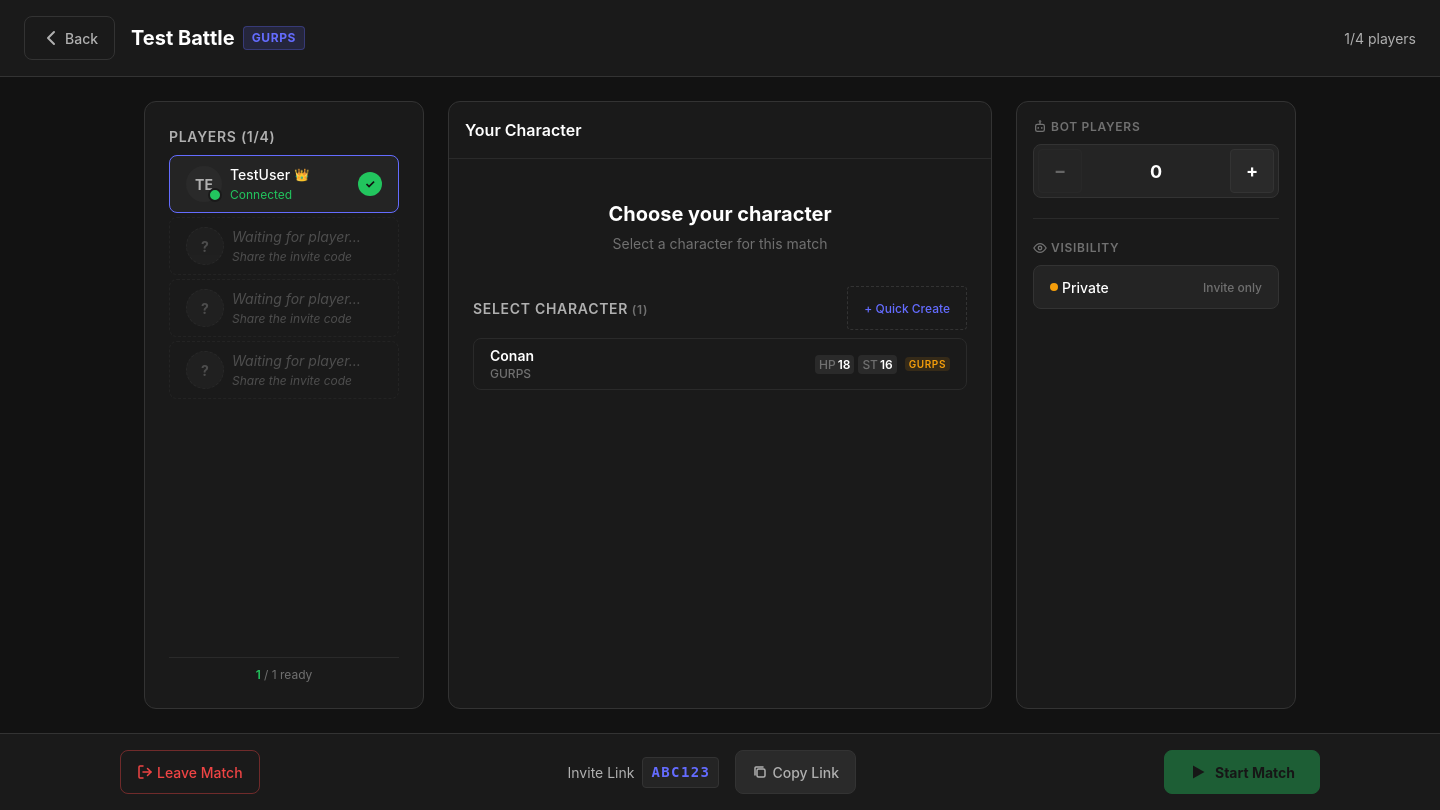
Scenario: LobbyScreen › clicking Remove Bot decrements bot count
The width and height of the screenshot is (1440, 810).
Click the button named "Add bot" at coordinates (1252, 171), box x1=1230 y1=149 x2=1274 y2=193
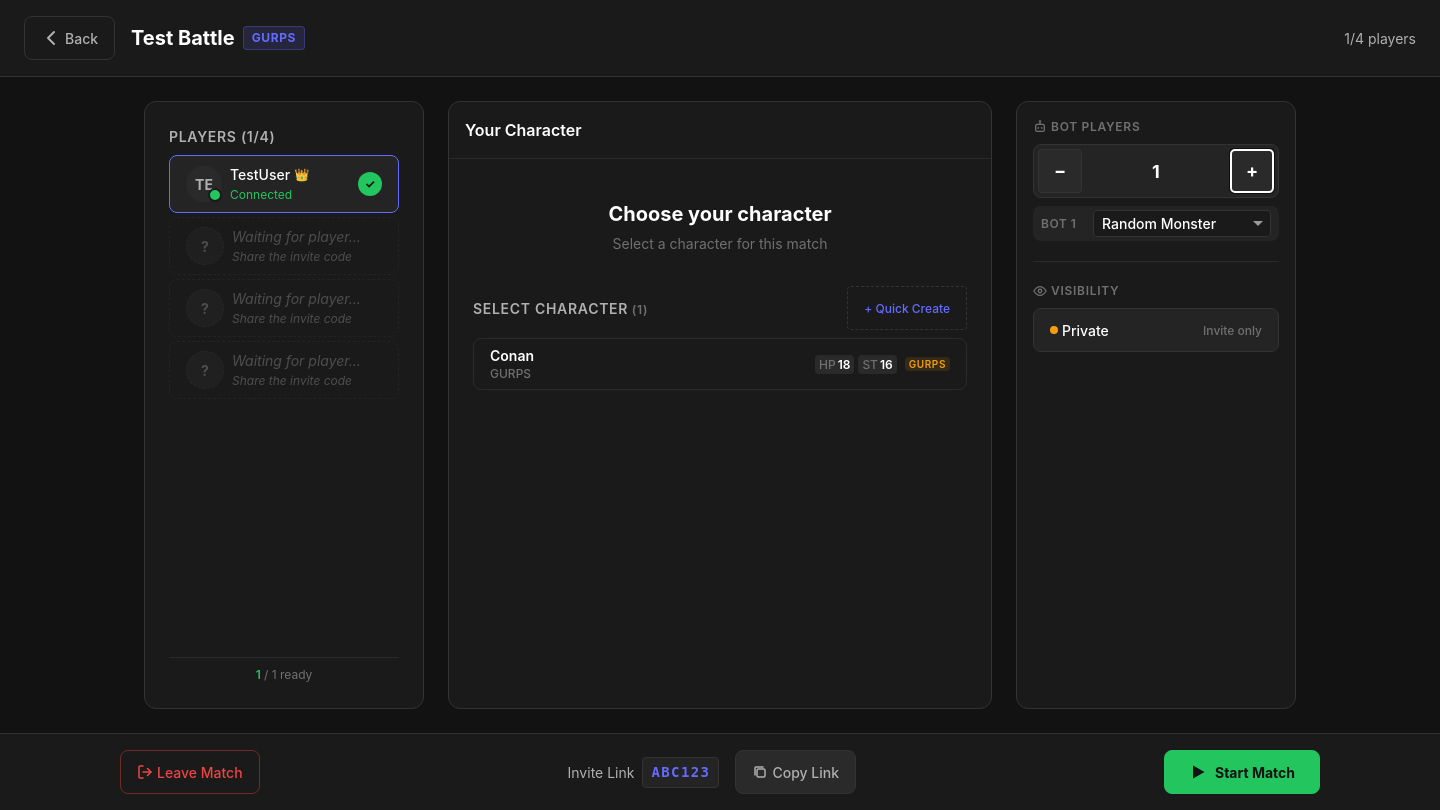
Expected: the button "Start Match" is enabled, x1=1164 y1=750 x2=1320 y2=794
Click the button named "Remove bot" at coordinates (1060, 171), box x1=1038 y1=149 x2=1082 y2=193
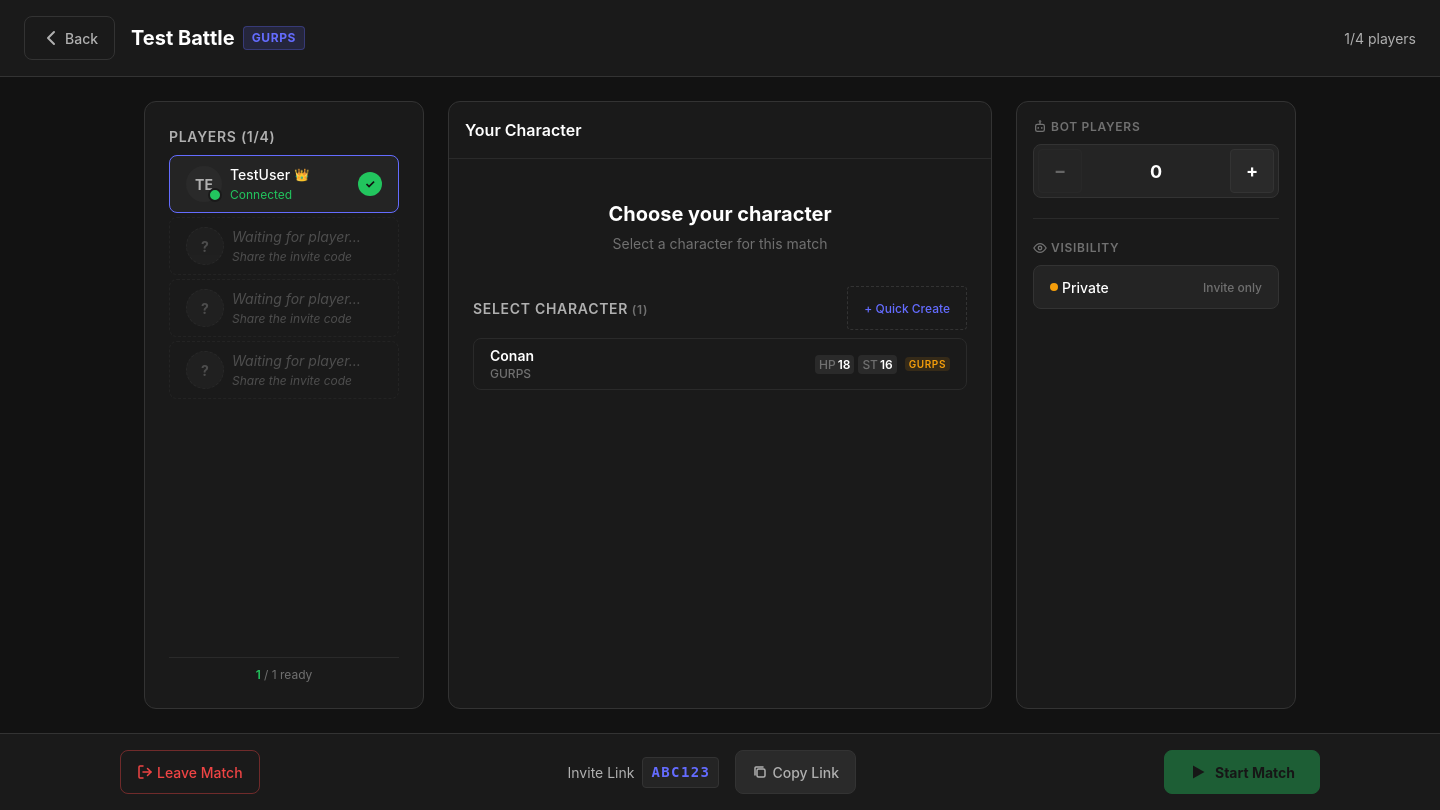
Expected: the button "Start Match" is disabled, x1=1164 y1=750 x2=1320 y2=794
